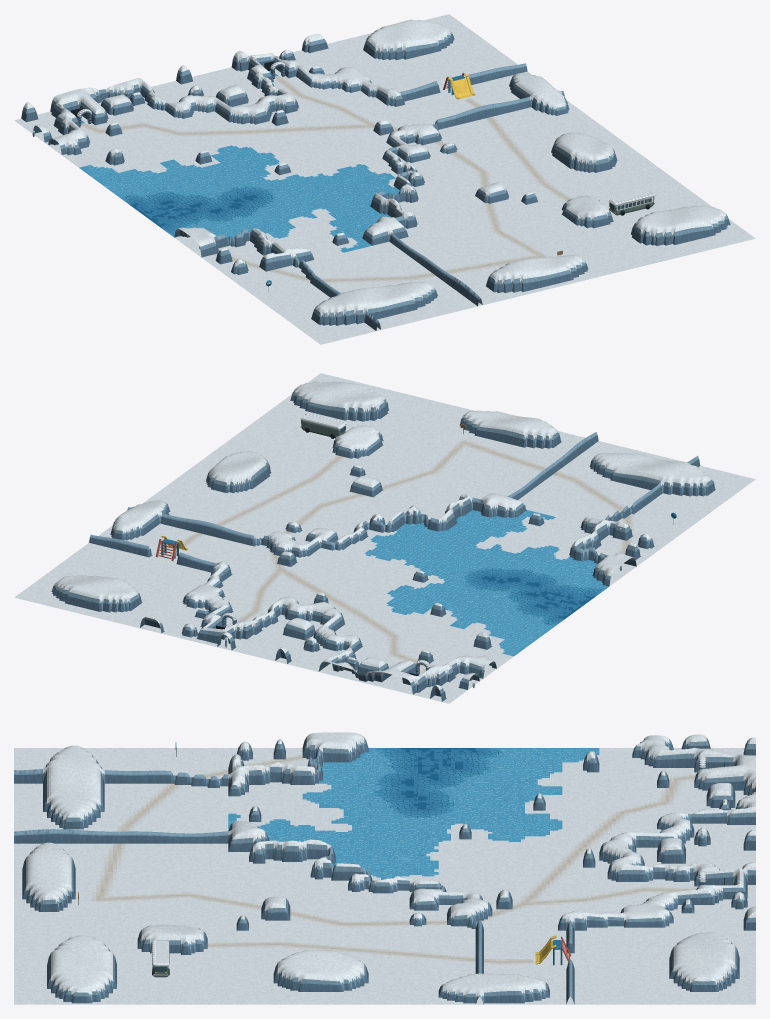
Rendered from terrain-props.glb.
The picture shows the model from 3 angles, top to bottom: view 1: azimuth 30°, elevation 25°; view 2: azimuth 150°, elevation 25°; view 3: azimuth 270°, elevation 25°; orthographic projection. The views are drawn at different scales.
Parts seen in each view (by area): view 1: hm13-snow-chunk-4-3, hm13-snow-chunk-3-4, hm13-snow-chunk-2-1, hm13-snow-chunk-4-0, hm13-snow-chunk-3-3, hm13-ice-chunk-1-2, hm13-snow-chunk-3-1, hm13-snow-chunk-1-0, hm13-snow-chunk-4-2, hm13-snow-chunk-2-4, hm13-ice-chunk-0-2, hm13-snow-chunk-0-0 (+53 smaller); view 2: hm13-snow-chunk-4-3, hm13-snow-chunk-3-4, hm13-snow-chunk-1-4, hm13-snow-chunk-3-1, hm13-ice-chunk-0-2, hm13-ice-chunk-1-2, hm13-snow-chunk-4-4, hm13-snow-chunk-4-0, hm13-snow-chunk-3-3, hm13-snow-chunk-2-4, hm13-snow-chunk-2-0, hm13-snow-chunk-0-4 (+46 smaller); view 3: hm13-snow-chunk-3-4, hm13-snow-chunk-4-2, hm13-snow-chunk-3-3, hm13-ice-chunk-1-2, hm13-snow-chunk-2-1, hm13-snow-chunk-2-4, hm13-ice-chunk-0-2, hm13-snow-chunk-4-1, hm13-snow-chunk-4-4, hm13-snow-chunk-3-1, hm13-snow-chunk-1-4, hm13-snow-chunk-4-0 (+54 smaller).
Part boxes in pixels (x1=…): hm13-snow-chunk-4-3: x1=487, y1=134, x2=618, y2=204; hm13-snow-chunk-3-4: x1=464, y1=204, x2=595, y2=260; hm13-snow-chunk-2-1: x1=223, y1=94, x2=354, y2=161; hm13-snow-chunk-4-0: x1=327, y1=19, x2=454, y2=84; hm13-snow-chunk-3-3: x1=411, y1=164, x2=541, y2=223; hm13-ice-chunk-1-2: x1=201, y1=162, x2=331, y2=220; hm13-snow-chunk-3-1: x1=301, y1=80, x2=431, y2=143; hm13-snow-chunk-1-0: x1=91, y1=78, x2=222, y2=141; hm13-snow-chunk-4-2: x1=434, y1=110, x2=563, y2=164; hm13-snow-chunk-2-4: x1=387, y1=223, x2=514, y2=281; hm13-ice-chunk-0-2: x1=123, y1=181, x2=254, y2=237; hm13-snow-chunk-0-0: x1=14, y1=87, x2=145, y2=160; hm13-snow-chunk-4-3: x1=226, y1=450, x2=352, y2=508; hm13-snow-chunk-3-4: x1=361, y1=429, x2=489, y2=487; hm13-snow-chunk-1-4: x1=520, y1=466, x2=644, y2=523; hm13-snow-chunk-3-1: x1=194, y1=548, x2=325, y2=606; hm13-ice-chunk-0-2: x1=481, y1=565, x2=608, y2=623; hm13-ice-chunk-1-2: x1=404, y1=546, x2=535, y2=604; hm13-snow-chunk-4-4: x1=281, y1=397, x2=411, y2=467; hm13-snow-chunk-4-0: x1=62, y1=569, x2=193, y2=628; hm13-snow-chunk-3-3: x1=303, y1=464, x2=434, y2=523; hm13-snow-chunk-2-4: x1=435, y1=447, x2=566, y2=500; hm13-snow-chunk-2-0: x1=217, y1=598, x2=348, y2=665; hm13-snow-chunk-0-4: x1=599, y1=472, x2=721, y2=543; hm13-snow-chunk-3-4: x1=96, y1=885, x2=228, y2=930; hm13-snow-chunk-4-2: x1=360, y1=930, x2=492, y2=976; hm13-snow-chunk-3-3: x1=228, y1=873, x2=360, y2=930; hm13-ice-chunk-1-2: x1=359, y1=793, x2=492, y2=839; hm13-snow-chunk-2-1: x1=492, y1=833, x2=623, y2=884; hm13-snow-chunk-2-4: x1=96, y1=843, x2=228, y2=884; hm13-ice-chunk-0-2: x1=359, y1=748, x2=494, y2=793; hm13-snow-chunk-4-1: x1=492, y1=930, x2=623, y2=976; hm13-snow-chunk-4-4: x1=96, y1=924, x2=228, y2=976; hm13-snow-chunk-3-1: x1=492, y1=885, x2=623, y2=930; hm13-snow-chunk-1-4: x1=96, y1=778, x2=228, y2=833; hm13-snow-chunk-4-0: x1=624, y1=930, x2=755, y2=976.
Bounding box in the file's own units: 64.51 × 2.5 × 78.13.
Materials: 4 (4 with a texture image).
